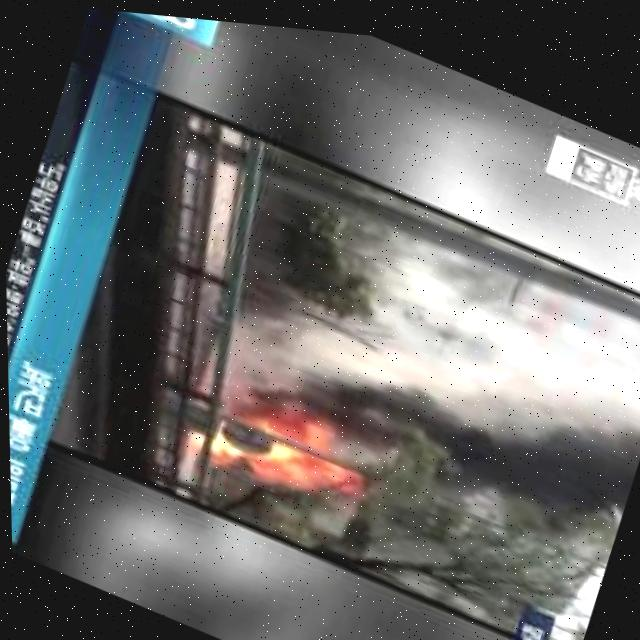Fire: (175, 365, 369, 521)
Smoke: (175, 364, 396, 532)
